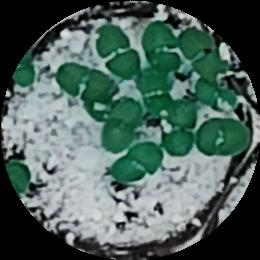Basil: (178, 28, 231, 85), (97, 98, 144, 152), (194, 116, 250, 160), (143, 17, 184, 75), (53, 59, 107, 103), (97, 23, 136, 82), (109, 141, 163, 181), (164, 101, 203, 154), (141, 71, 173, 115), (194, 80, 235, 113)
